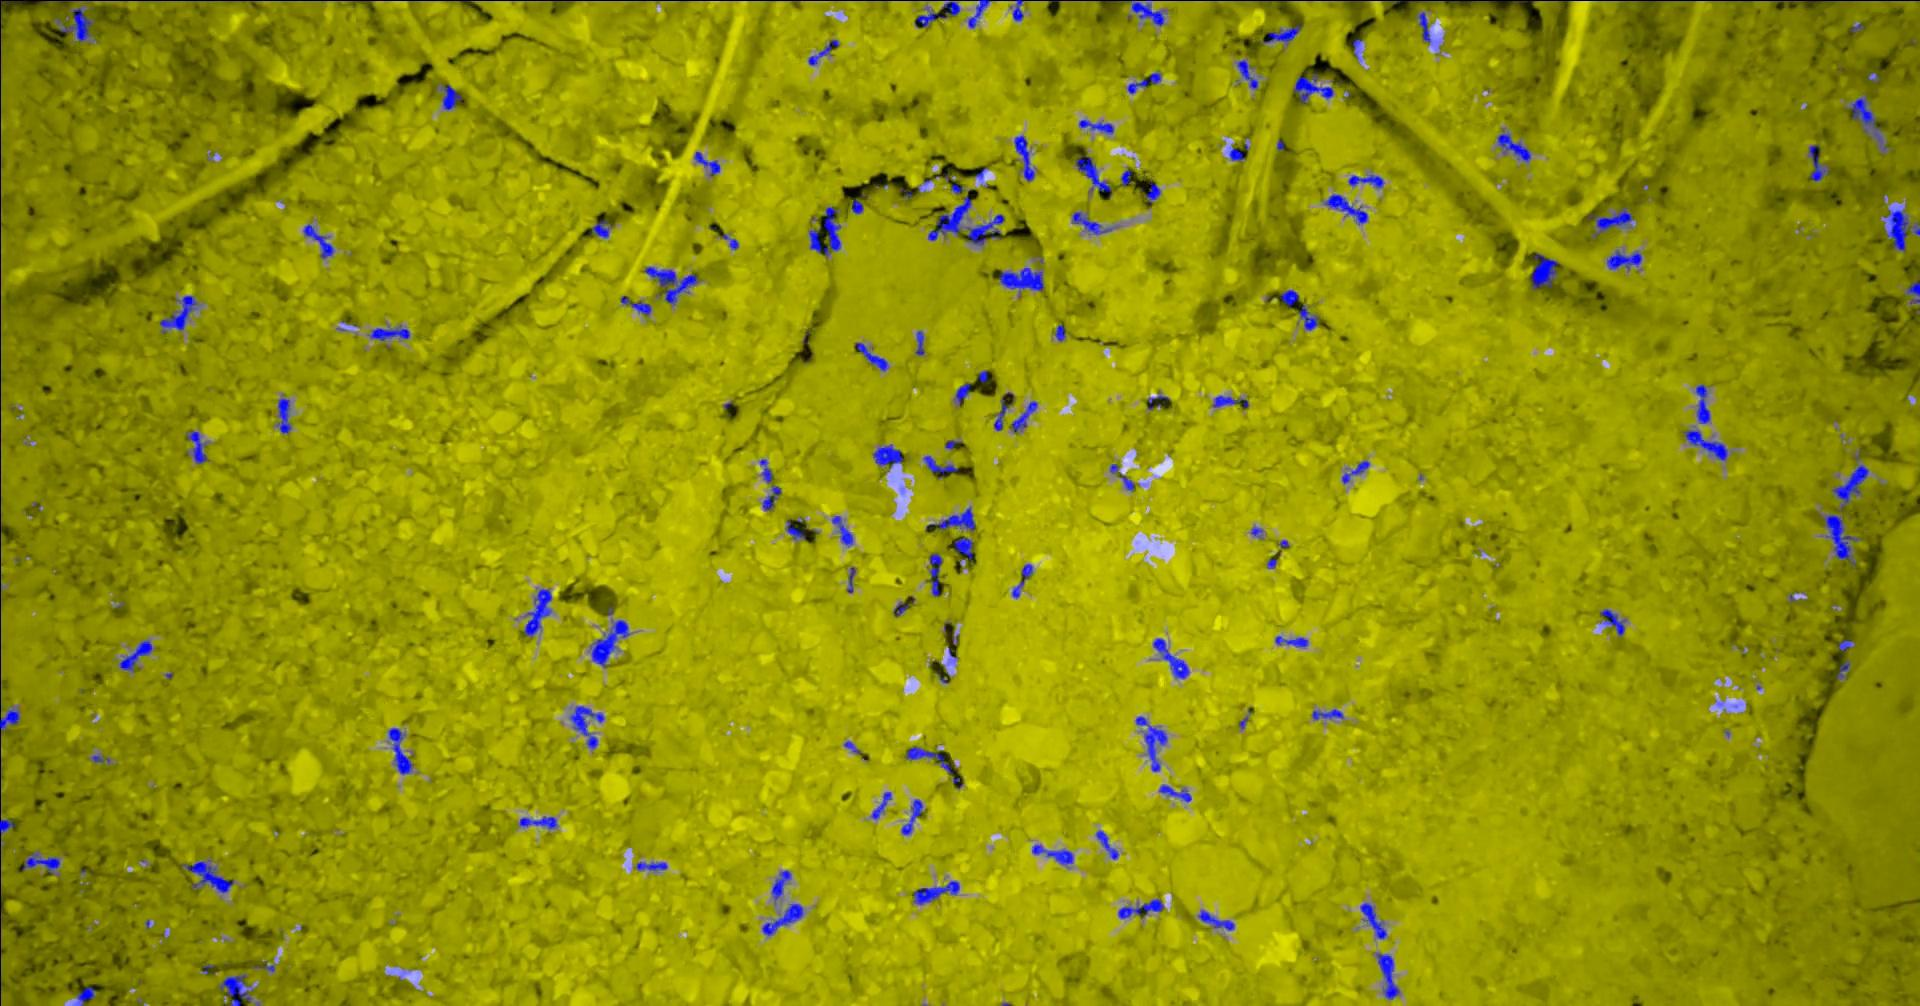ant: (1851, 95, 1890, 150), (645, 265, 698, 304), (930, 196, 973, 240), (592, 619, 631, 667), (1825, 514, 1860, 567), (1137, 715, 1170, 771), (182, 859, 235, 893), (1834, 464, 1870, 509), (1100, 0, 1166, 25), (810, 206, 842, 257), (1154, 636, 1191, 678), (1077, 154, 1112, 196), (1884, 210, 1920, 251), (571, 705, 604, 748), (161, 295, 198, 332), (524, 588, 552, 636), (1326, 193, 1369, 224), (907, 746, 954, 774), (1685, 431, 1730, 460), (763, 903, 804, 935), (58, 8, 97, 41), (968, 213, 1006, 245), (1295, 72, 1335, 103), (927, 506, 977, 530), (389, 727, 414, 774), (916, 0, 961, 25), (1377, 951, 1401, 998), (1589, 207, 1634, 231), (916, 880, 961, 904), (1498, 128, 1531, 161), (221, 973, 254, 1005), (305, 224, 335, 258), (1531, 253, 1559, 290), (1001, 267, 1045, 290), (121, 639, 152, 671), (1016, 135, 1037, 180), (856, 342, 889, 371), (1361, 902, 1388, 937), (1119, 898, 1164, 918), (1073, 211, 1112, 234), (1032, 843, 1076, 864), (23, 851, 61, 874), (1012, 400, 1039, 431), (924, 455, 960, 478), (809, 39, 841, 65), (1810, 144, 1831, 180), (903, 799, 924, 835), (187, 431, 210, 464), (1263, 24, 1303, 43), (1199, 909, 1236, 930), (1129, 71, 1162, 93), (1601, 608, 1627, 636), (1013, 563, 1034, 597), (833, 514, 855, 546), (1608, 250, 1643, 269), (1097, 829, 1120, 859), (874, 445, 904, 466), (370, 325, 411, 340), (1343, 460, 1371, 483), (696, 151, 721, 175), (1697, 384, 1712, 423), (1238, 58, 1258, 88), (622, 295, 651, 315), (773, 870, 792, 901), (969, 0, 990, 27), (1299, 304, 1321, 330), (872, 791, 893, 819), (1161, 784, 1192, 801), (931, 553, 943, 596), (996, 398, 1012, 431), (1, 708, 22, 734), (1, 0, 15, 38), (443, 84, 463, 109), (1079, 119, 1115, 133), (1350, 174, 1385, 188), (521, 815, 557, 828), (955, 536, 975, 559), (589, 218, 613, 238), (279, 398, 292, 433), (764, 485, 782, 511), (1214, 395, 1250, 406), (1420, 11, 1432, 42), (787, 520, 808, 539), (1276, 635, 1309, 647), (1313, 708, 1345, 719), (77, 986, 97, 1005), (1149, 392, 1171, 409), (761, 459, 775, 483), (1907, 278, 1920, 304), (1147, 179, 1161, 202), (957, 382, 971, 404), (723, 232, 740, 249), (1281, 290, 1300, 305), (1121, 473, 1137, 490), (637, 861, 668, 870), (1, 818, 17, 835), (1837, 661, 1851, 678), (848, 567, 857, 592), (1015, 0, 1025, 22), (917, 330, 926, 354), (1230, 147, 1244, 160), (895, 602, 909, 615), (1839, 639, 1853, 652), (1123, 169, 1133, 185), (853, 198, 863, 213), (1057, 324, 1065, 340), (1774, 0, 1840, 1)
